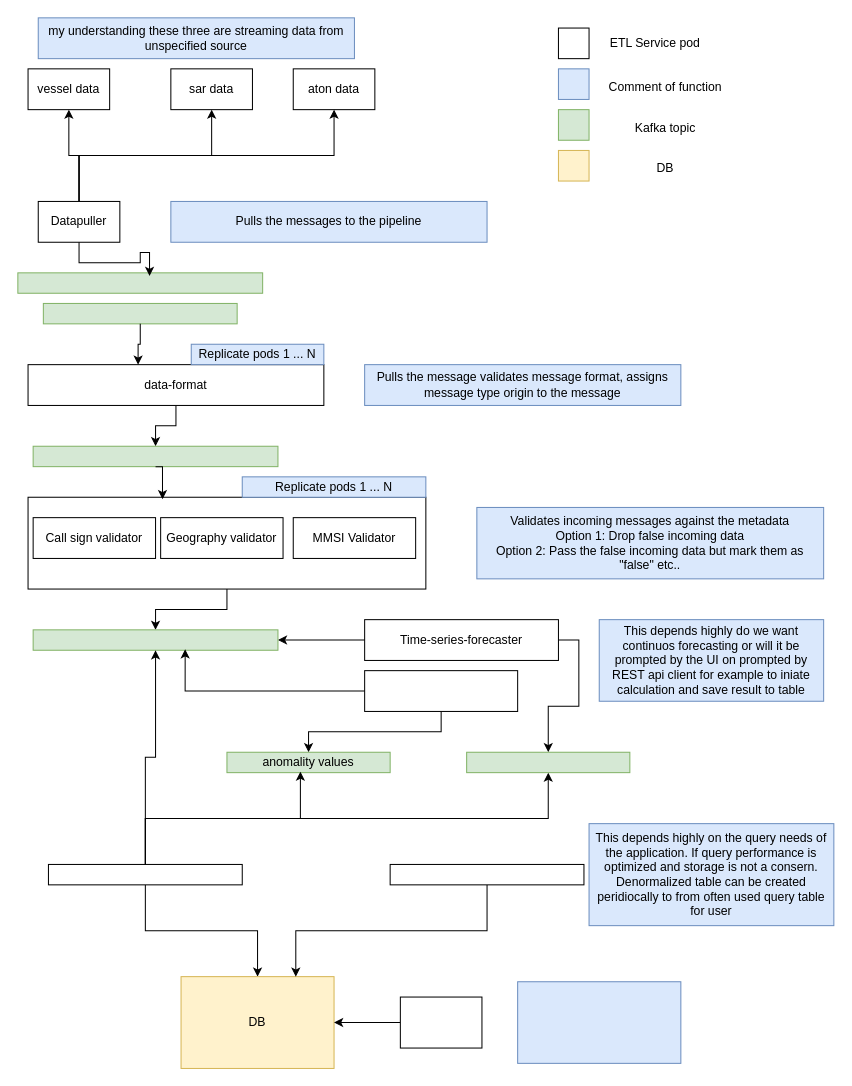
This 852x1086 diagram has some shape labels left out. Each missing label, with the box of its shape:
Anomaly detector: (364, 670, 518, 711)
api: (399, 996, 482, 1048)
Api-pod to handle requests from end user: (517, 981, 681, 1063)
db-writer: (47, 863, 242, 885)
denormalizer: (389, 863, 584, 885)
forecasted values: (466, 751, 630, 773)
Partition 1..... N: (42, 302, 237, 324)
raw-values-topic: (17, 272, 263, 293)
validated-data-topic: (32, 629, 278, 650)
values-topic: (32, 445, 278, 467)
